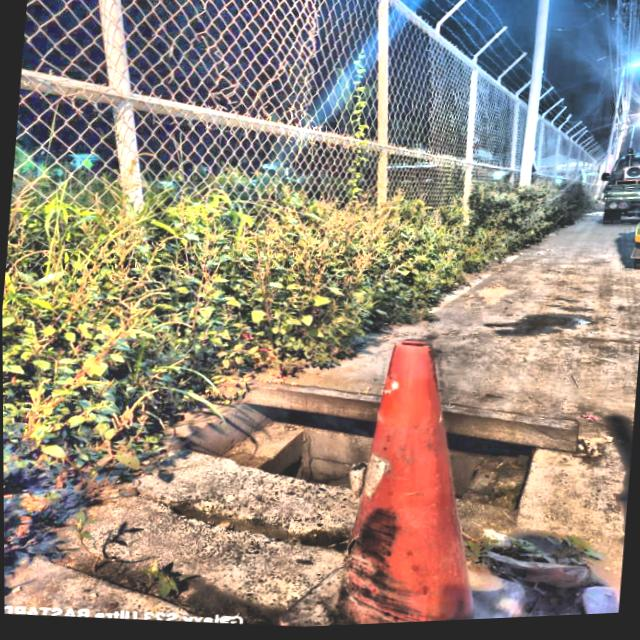open_manhole: (166, 383, 378, 544), (444, 406, 585, 530)
